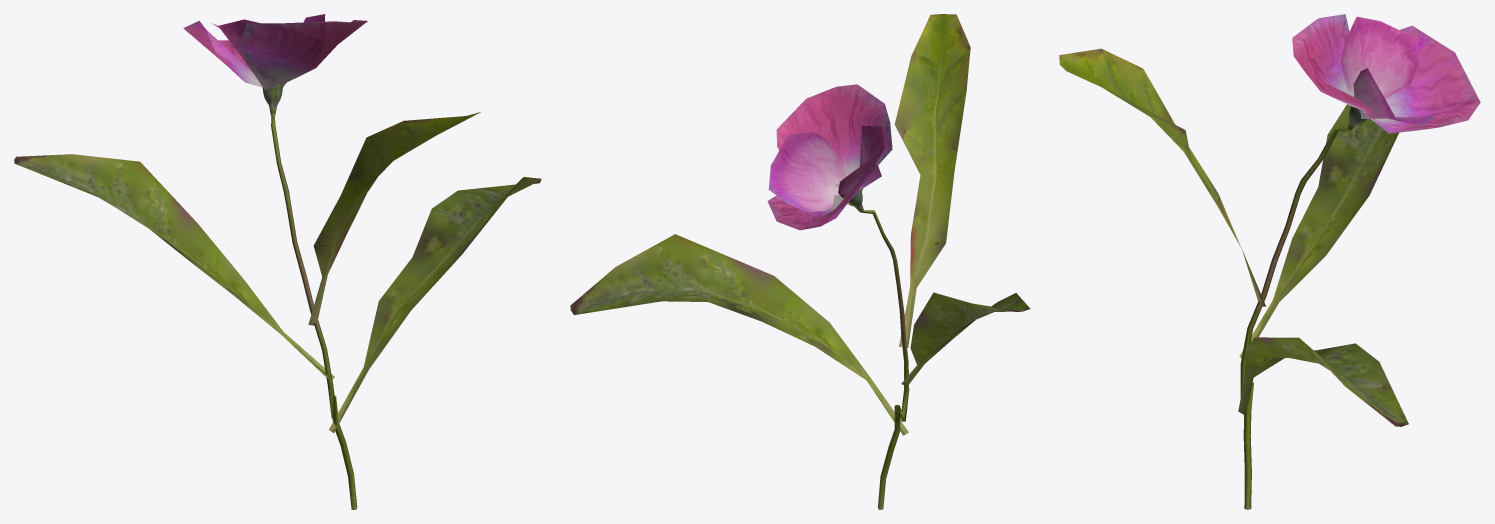
The model's file is Poppy_baby_short_pink.glb.
3 renders of one model, left to right at view 1: azimuth 30°, elevation 25°; view 2: azimuth 150°, elevation 25°; view 3: azimuth 270°, elevation 25°, orthographic. The views are drawn at different scales.
Parts seen in each view (by area): view 1: baby poppy; view 2: baby poppy; view 3: baby poppy.
Part boxes in pixels (x1,y1,x2,y2): baby poppy: (14,14,541,509); baby poppy: (570,14,1030,509); baby poppy: (1059,14,1480,509).
Size of the model in its own units: 1.32 by 1.17 by 0.9442.
1 material, 1 textured.
